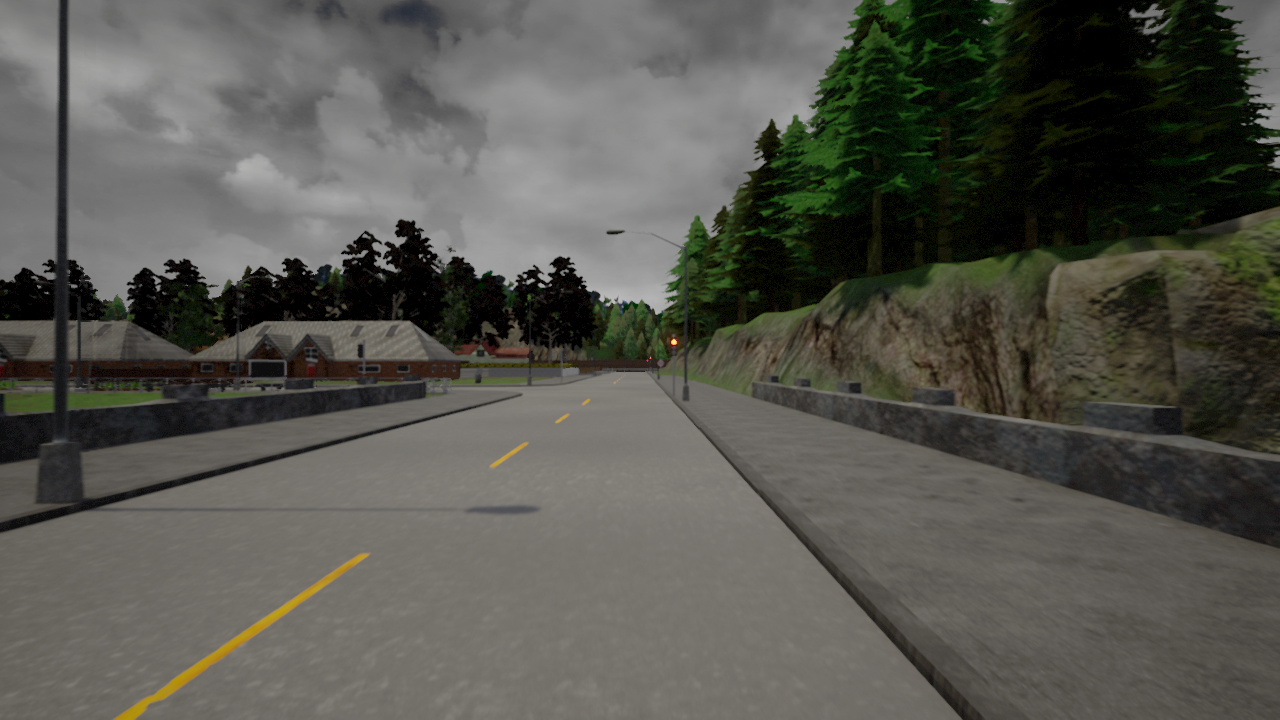red: (670, 337, 678, 357)
